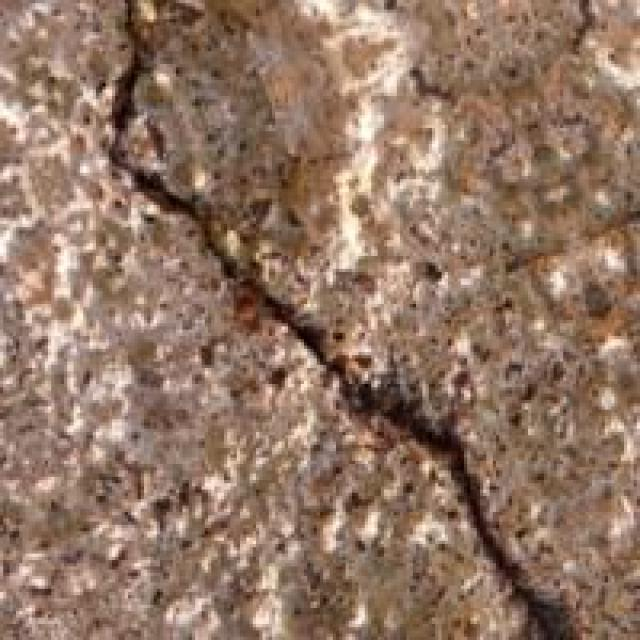crack: (64, 3, 595, 637)
